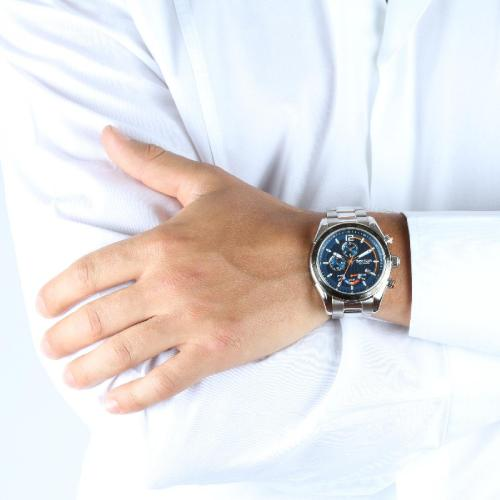clock: (316, 228, 385, 295)
